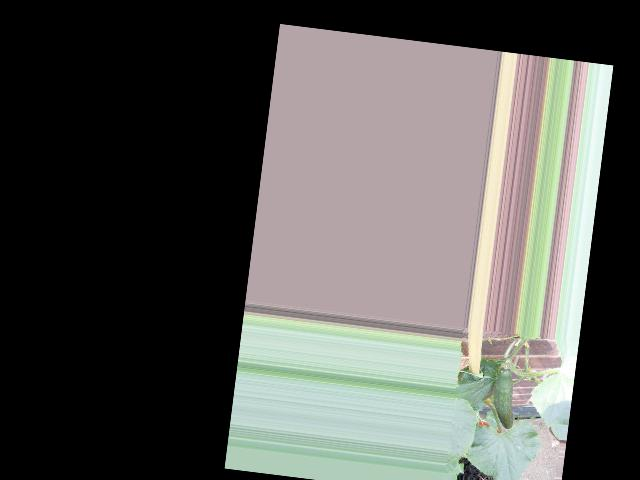cucumber: (489, 366, 520, 429)
